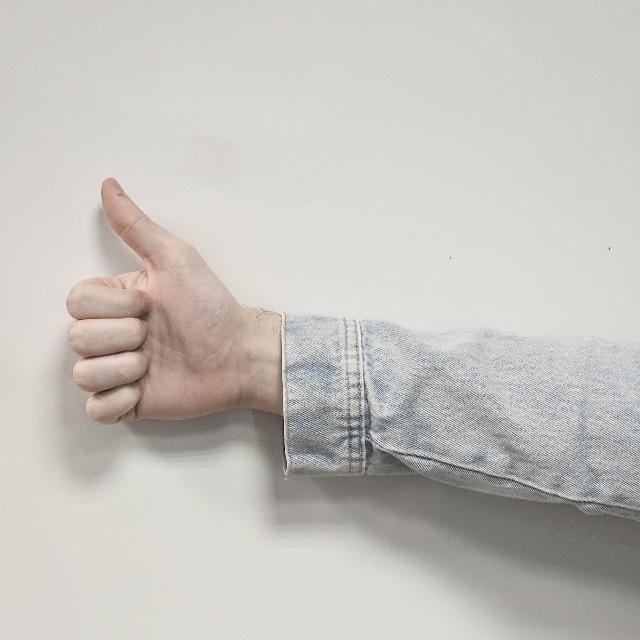Start: (66, 178, 254, 470)
